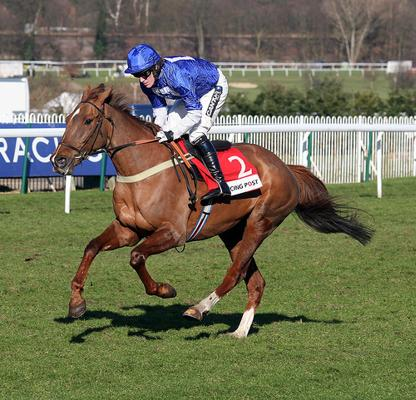person: (126, 46, 233, 208)
